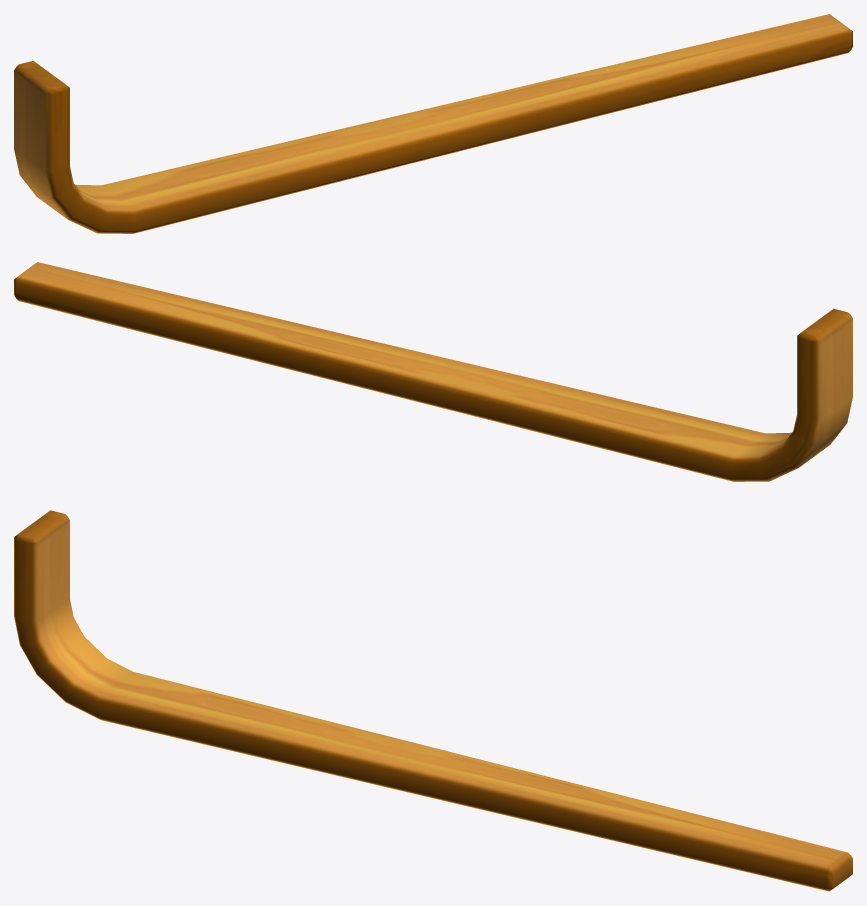
The model's file is Matcha_Spoon.fbx.
3 views of the same model, one above another, from view 1: azimuth 30°, elevation 25°; view 2: azimuth 150°, elevation 25°; view 3: azimuth 330°, elevation 25° (orthographic).
Parts seen in each view (by area): view 1: Matcha_Spoon; view 2: Matcha_Spoon; view 3: Matcha_Spoon.
Part boxes in pixels (<box>): Matcha_Spoon: <box>14,14,852,233</box>; Matcha_Spoon: <box>14,262,852,481</box>; Matcha_Spoon: <box>14,510,852,891</box>.
Size of the model in its own units: 60.05 by 11.74 by 4.75.
